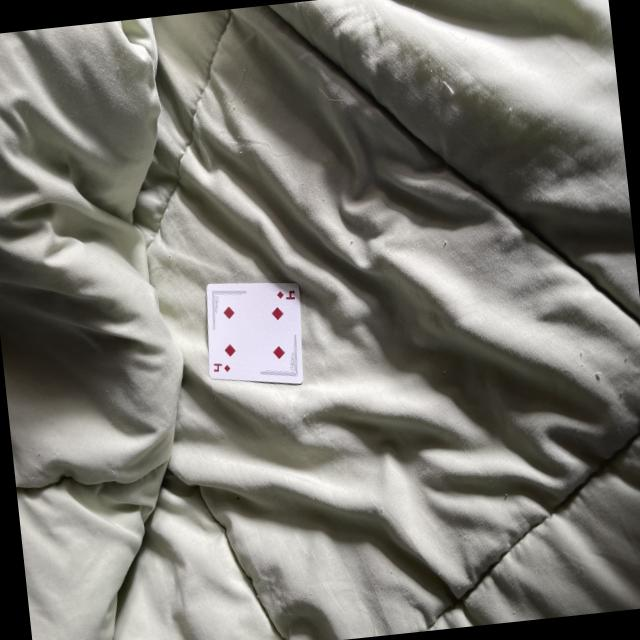4 of diamonds: (206, 278, 307, 383)
